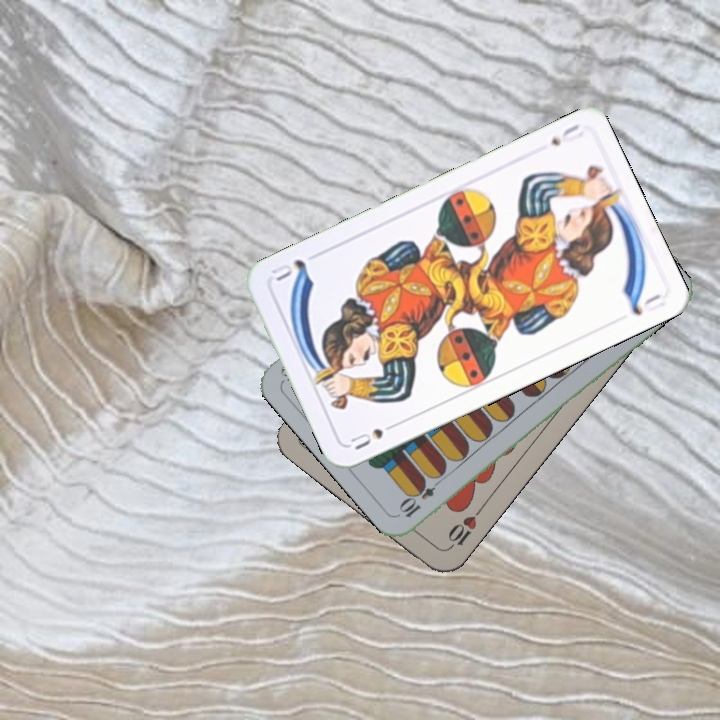E10: (396, 472, 446, 520)
H10: (443, 503, 485, 553)
SU: (346, 417, 402, 453), (546, 120, 586, 149)
